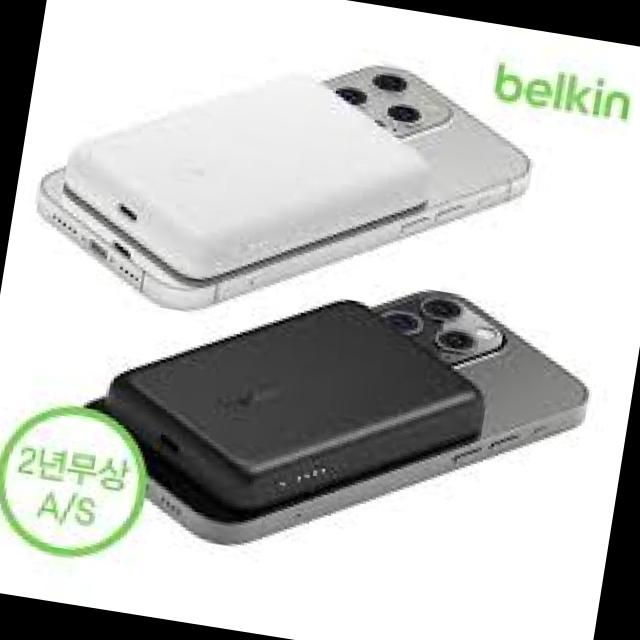power_bank: (88, 260, 499, 548), (58, 38, 448, 316)
